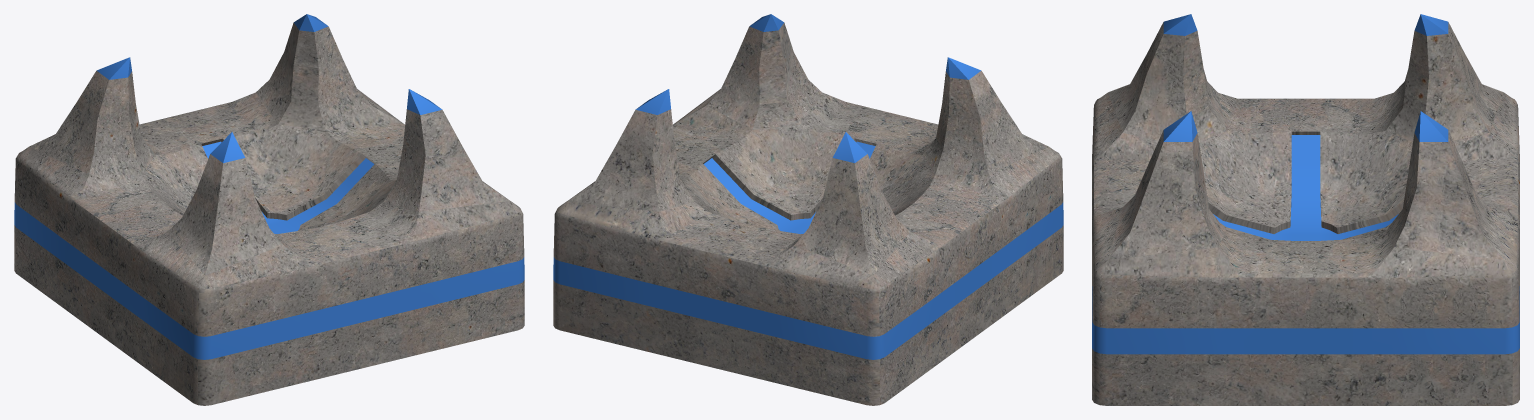
File: OrbKeyReceiver.fbx
The picture shows the model from 3 angles, left to right: view 1: azimuth 30°, elevation 25°; view 2: azimuth 150°, elevation 25°; view 3: azimuth 270°, elevation 25°; orthographic projection. The views are drawn at different scales.
Parts seen in each view (by area): view 1: orb_receiver; view 2: orb_receiver; view 3: orb_receiver.
Boxes of the visible parts, x1,y1,x2,y2 form: orb_receiver: (14, 14, 524, 405); orb_receiver: (553, 14, 1063, 405); orb_receiver: (1092, 14, 1519, 405).
Bounding box in the file's own units: 2.7 × 1.76 × 2.7.
